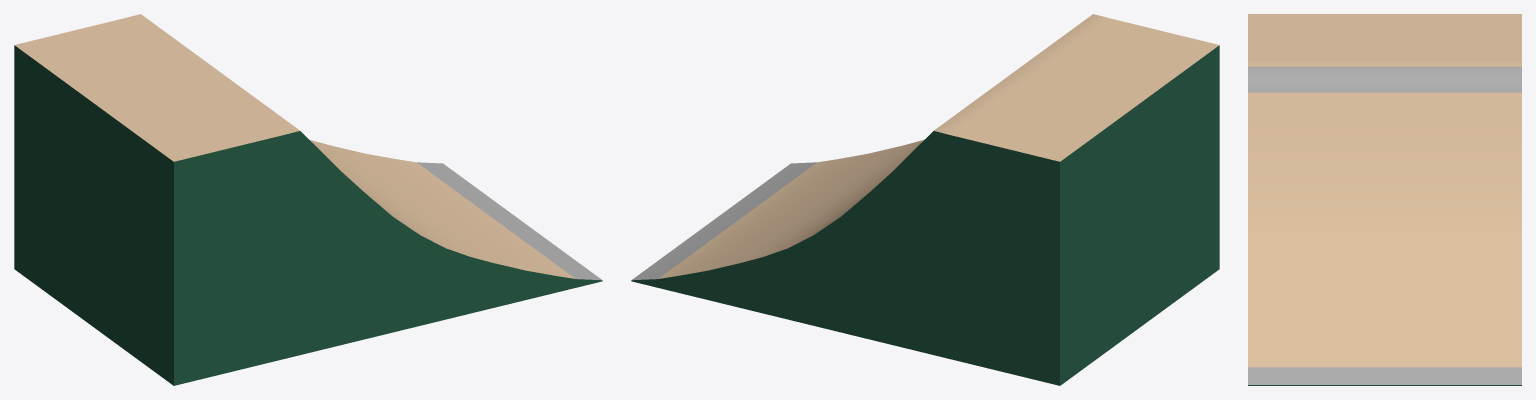
The model's file is half_pipe.fbx.
The picture shows the model from 3 angles, left to right: view 1: azimuth 30°, elevation 25°; view 2: azimuth 150°, elevation 25°; view 3: azimuth 270°, elevation 25°; orthographic projection. The views are drawn at different scales.
Parts seen in each view (by area): view 1: pCube1; view 2: pCube1; view 3: pCube1.
Boxes of the visible parts, left/top/right/bottom form: pCube1: left=14, top=14, right=602, bottom=385; pCube1: left=631, top=14, right=1219, bottom=385; pCube1: left=1248, top=14, right=1521, bottom=385.
Size of the model in its own units: 7.54 by 3.77 by 4.86.
